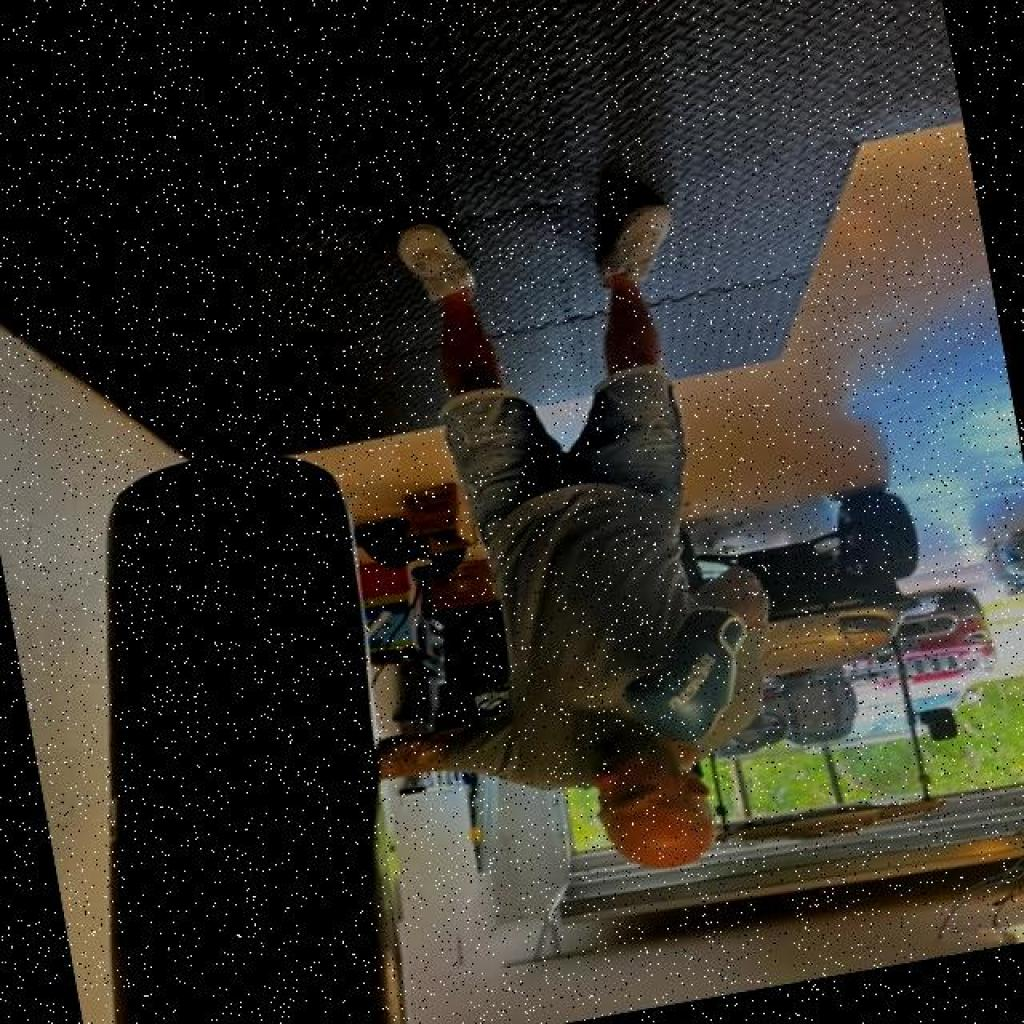hook: (309, 536, 792, 949)
